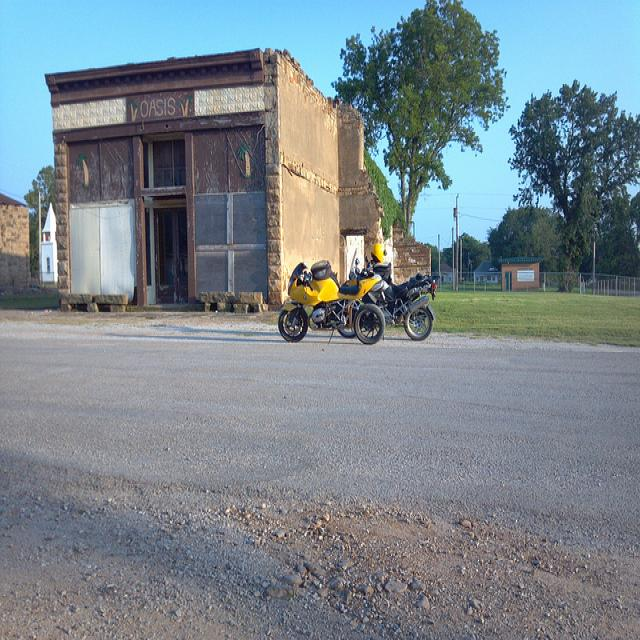motor: (277, 261, 387, 349), (338, 259, 436, 341)
